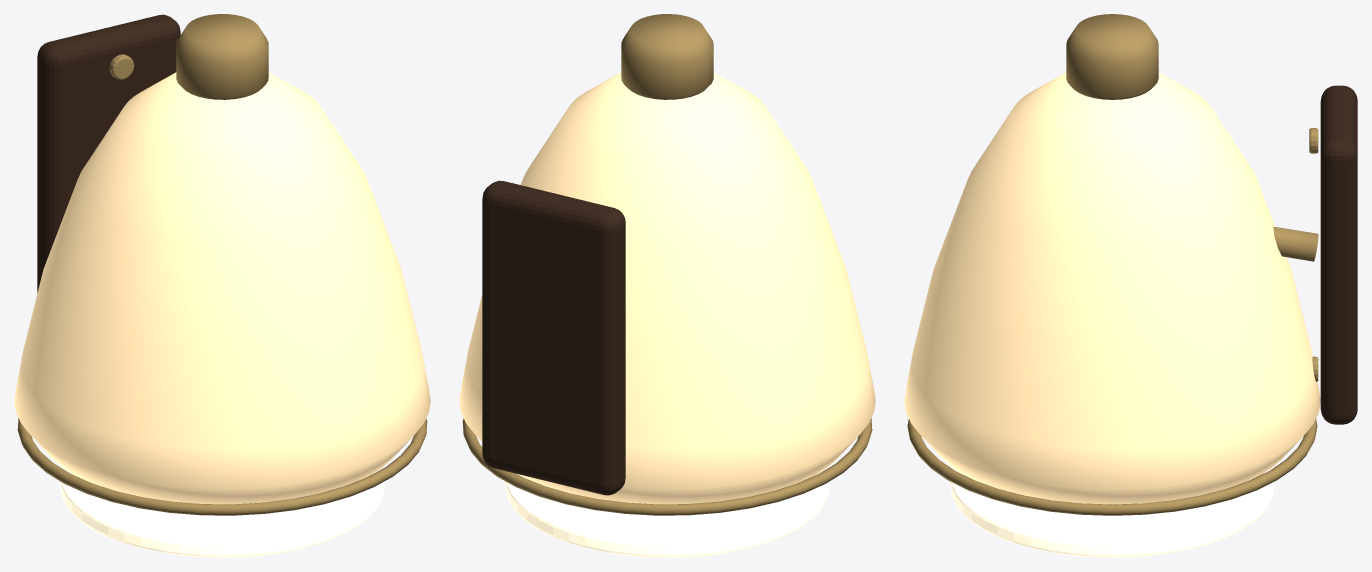
The model's file is restroom_wall_sconce.fbx.
3 renders of one model, left to right at view 1: azimuth 30°, elevation 25°; view 2: azimuth 150°, elevation 25°; view 3: azimuth 270°, elevation 25°, orthographic.
Visible parts, largest first — view 1: restroom_wall_sconce; view 2: restroom_wall_sconce; view 3: restroom_wall_sconce.
Boxes of the visible parts, x1,y1,x2,y2 form: restroom_wall_sconce: [14, 14, 430, 557]; restroom_wall_sconce: [459, 14, 875, 557]; restroom_wall_sconce: [904, 14, 1357, 557].
Bounding box in the file's own units: 0.18 × 0.22 × 0.196.
